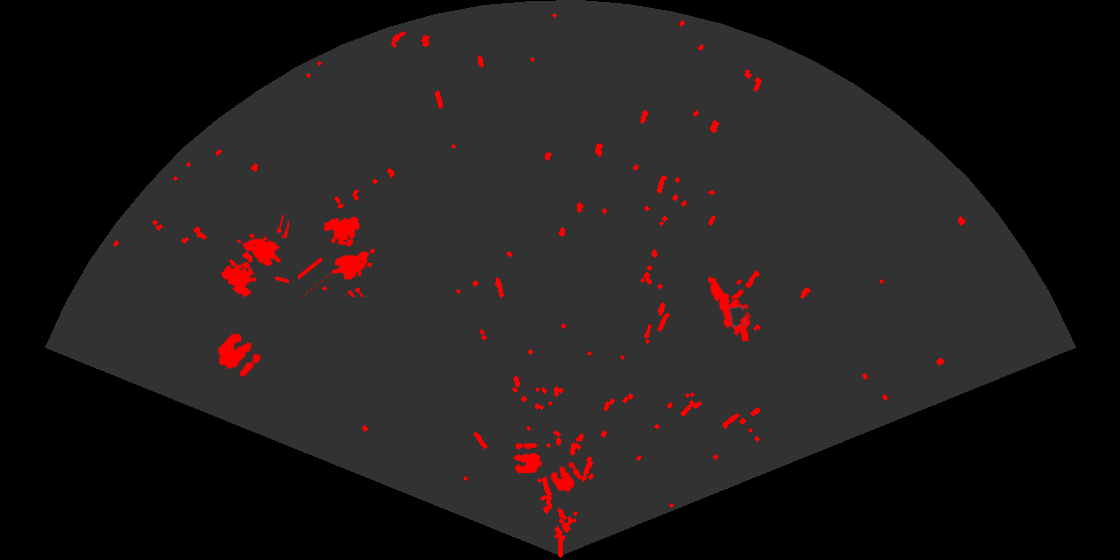ball: (216, 332, 263, 379), (549, 460, 584, 494), (512, 441, 544, 475)
cage: (298, 215, 377, 297), (220, 215, 289, 299)
frogman: (706, 275, 753, 341)
